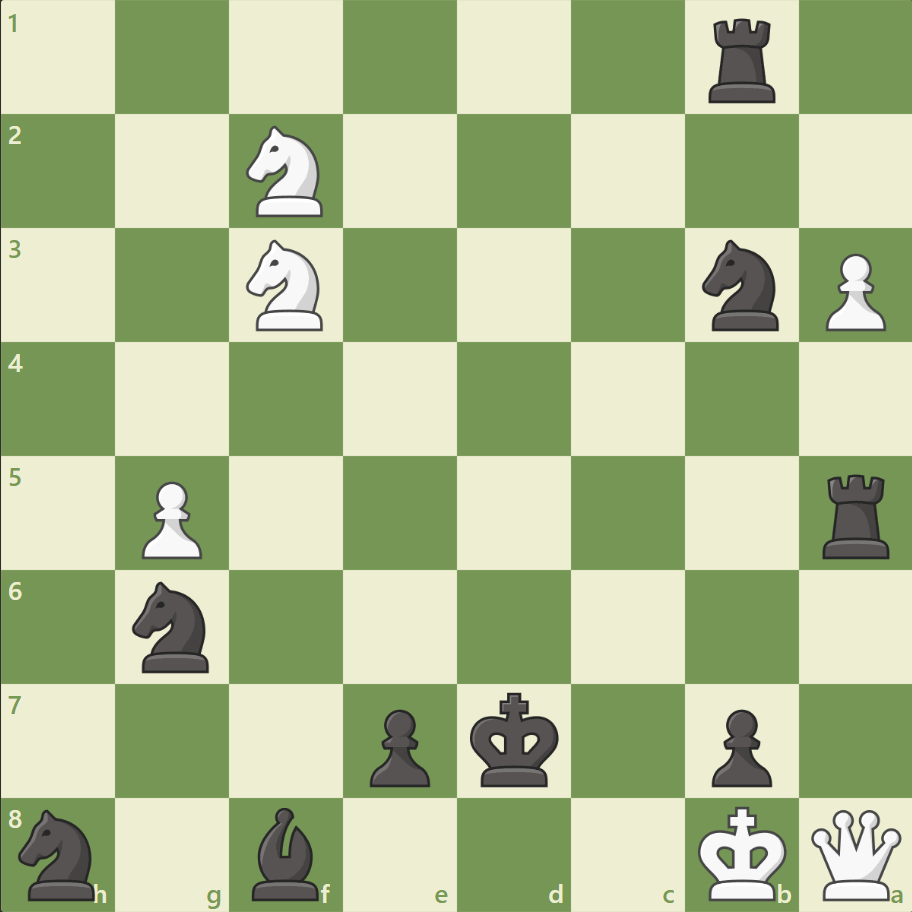K: (692, 798, 792, 906)
N: (238, 234, 335, 337), (238, 121, 335, 223)
P: (133, 473, 208, 564), (815, 246, 889, 337)
Q: (805, 804, 904, 903)
b: (244, 801, 328, 904)
k: (465, 685, 565, 793)
n: (124, 575, 222, 677), (692, 234, 789, 337), (11, 802, 108, 904)
p: (701, 700, 776, 791), (361, 700, 435, 791)
r: (814, 466, 897, 563), (700, 12, 783, 109)
